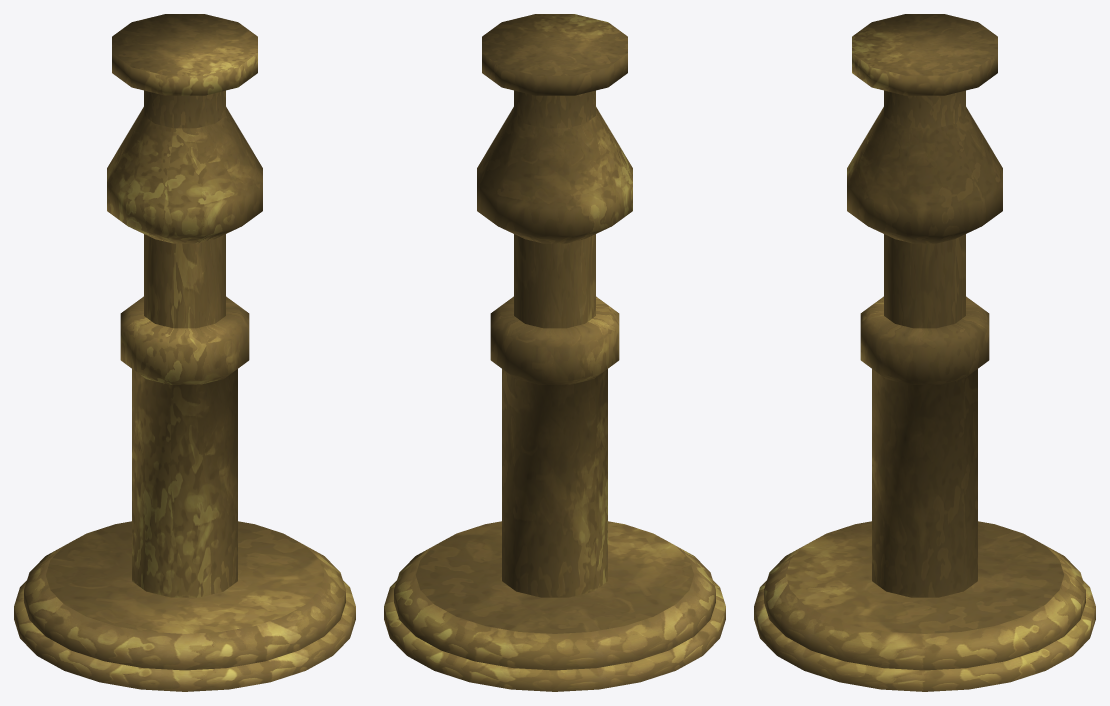
Rendered from DI_016_candle_stand.glb.
The picture shows the model from 3 angles, left to right: view 1: azimuth 30°, elevation 25°; view 2: azimuth 150°, elevation 25°; view 3: azimuth 270°, elevation 25°; orthographic projection.
Parts seen in each view (by area): view 1: CandleStand.003; view 2: CandleStand.003; view 3: CandleStand.003.
Part boxes in pixels (box(x1,y1,x2,y2)): CandleStand.003: box(14, 14, 355, 691); CandleStand.003: box(384, 14, 725, 691); CandleStand.003: box(754, 14, 1095, 691).
Bounding box in the file's own units: 0.7735 × 1.44 × 0.7735.
Materials: 1 (1 with a texture image).
